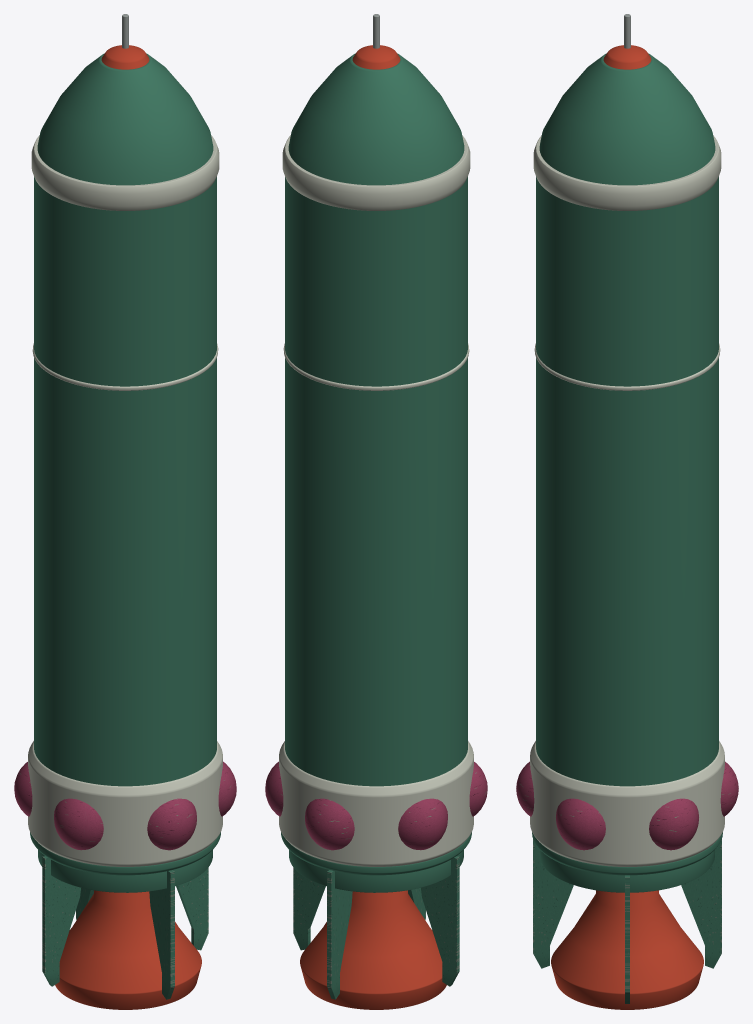
3 views of the same model, side by side, from view 1: azimuth 30°, elevation 25°; view 2: azimuth 150°, elevation 25°; view 3: azimuth 270°, elevation 25° (orthographic).
Visible parts, largest first — view 1: Stasis straight green pressure casing, Stasis rounded green head, Stasis broad pale lower collar, Stasis hollow red propulsion bell, Stasis pale upper band, Guidance fin 3, Stasis annular engine mount, Guidance fin 4, Tachyon dispersion pod 1, Tachyon dispersion pod 6, Stasis green lower collar lip, Guidance fin 1 (+4 smaller); view 2: Stasis straight green pressure casing, Stasis rounded green head, Stasis broad pale lower collar, Stasis hollow red propulsion bell, Stasis pale upper band, Guidance fin 3, Stasis annular engine mount, Guidance fin 2, Tachyon dispersion pod 4, Tachyon dispersion pod 5, Stasis green lower collar lip, Guidance fin 1 (+4 smaller); view 3: Stasis straight green pressure casing, Stasis rounded green head, Stasis hollow red propulsion bell, Stasis broad pale lower collar, Stasis pale upper band, Stasis annular engine mount, Guidance fin 2, Guidance fin 4, Tachyon dispersion pod 2, Tachyon dispersion pod 3, Stasis green lower collar lip, Stasis thin pale body joint (+4 smaller).
Part boxes in pixels (<box>): Stasis straight green pressure casing: <box>34,176,216,786</box>; Stasis rounded green head: <box>37,53,213,185</box>; Stasis broad pale lower collar: <box>28,741,222,866</box>; Stasis hollow red propulsion bell: <box>55,890,201,1009</box>; Stasis pale upper band: <box>31,135,219,210</box>; Guidance fin 3: <box>42,856,80,986</box>; Stasis annular engine mount: <box>38,850,212,892</box>; Guidance fin 4: <box>149,870,174,999</box>; Tachyon dispersion pod 1: <box>147,798,196,850</box>; Tachyon dispersion pod 6: <box>54,798,103,850</box>; Stasis green lower collar lip: <box>30,832,220,875</box>; Guidance fin 1: <box>176,867,208,950</box>; Stasis straight green pressure casing: <box>285,176,467,786</box>; Stasis rounded green head: <box>288,53,464,185</box>; Stasis broad pale lower collar: <box>279,741,473,866</box>; Stasis hollow red propulsion bell: <box>300,890,446,1009</box>; Stasis pale upper band: <box>282,135,470,210</box>; Guidance fin 3: <box>421,856,459,986</box>; Stasis annular engine mount: <box>289,850,463,892</box>; Guidance fin 2: <box>327,870,352,999</box>; Tachyon dispersion pod 4: <box>305,798,354,850</box>; Tachyon dispersion pod 5: <box>398,798,447,850</box>; Stasis green lower collar lip: <box>281,832,471,875</box>; Guidance fin 1: <box>293,867,325,950</box>; Stasis straight green pressure casing: <box>536,176,718,786</box>; Stasis rounded green head: <box>539,53,715,185</box>; Stasis hollow red propulsion bell: <box>551,890,703,1009</box>; Stasis broad pale lower collar: <box>530,741,724,866</box>; Stasis pale upper band: <box>533,135,721,210</box>; Stasis annular engine mount: <box>540,850,714,892</box>; Guidance fin 2: <box>681,839,721,968</box>; Guidance fin 4: <box>533,839,573,968</box>; Tachyon dispersion pod 2: <box>556,798,605,850</box>; Tachyon dispersion pod 3: <box>649,798,698,850</box>; Stasis green lower collar lip: <box>532,832,722,875</box>; Stasis thin pale body joint: <box>534,343,720,390</box>.
Bounding box in the file's own units: 1.19 × 6.31 × 1.32.
Materials: 7 (2 with a texture image).
